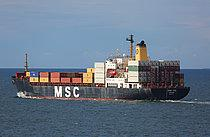Ship: (10, 33, 193, 104)
